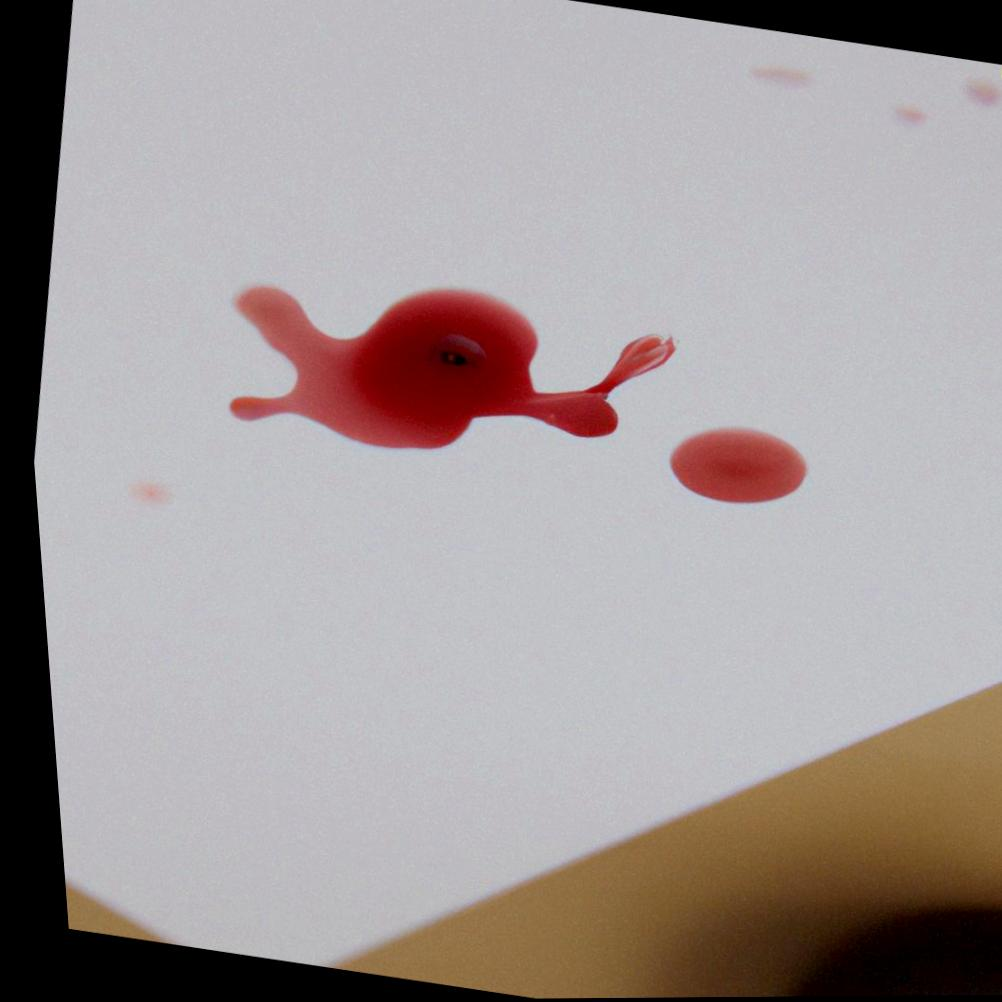Fire: (222, 287, 670, 450), (661, 429, 800, 505)
